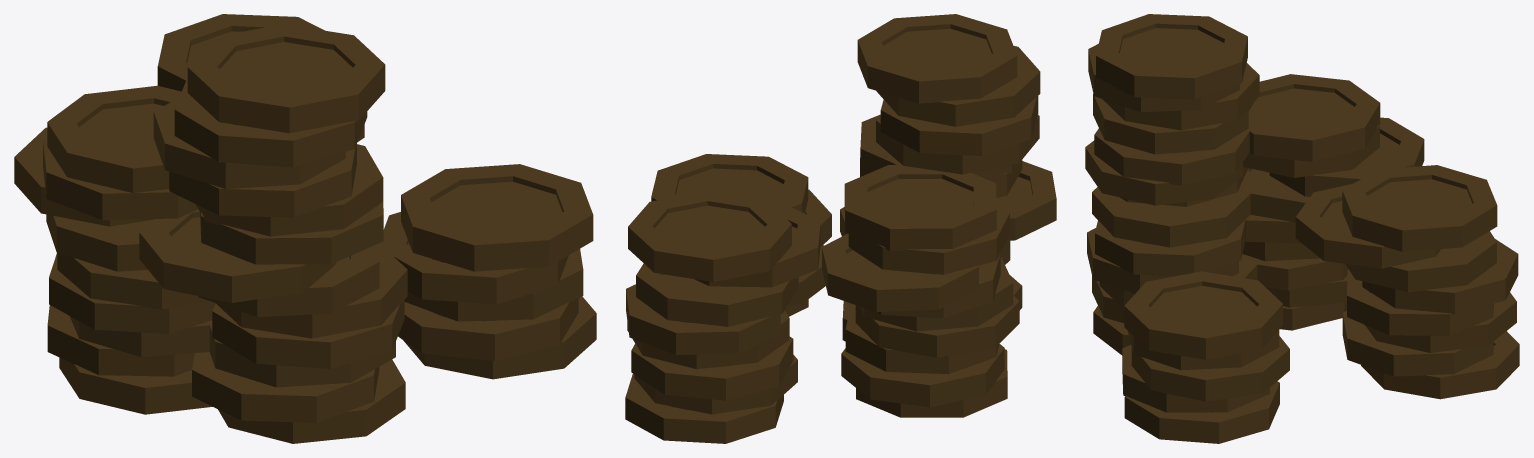
Rendered from Coin_Pile_Cylinder.obj.
3 views of the same model, side by side, from view 1: azimuth 30°, elevation 25°; view 2: azimuth 150°, elevation 25°; view 3: azimuth 270°, elevation 25° (orthographic). The views are drawn at different scales.
Parts seen in each view (by area): view 1: Coin_Pile_Cylinder.001; view 2: Coin_Pile_Cylinder.001; view 3: Coin_Pile_Cylinder.001.
Boxes of the visible parts, left/top/right/bottom form: Coin_Pile_Cylinder.001: left=14, top=14, right=596, bottom=443; Coin_Pile_Cylinder.001: left=625, top=14, right=1056, bottom=443; Coin_Pile_Cylinder.001: left=1085, top=14, right=1519, bottom=443.
Bounding box in the file's own units: 0.1364 × 0.0946 × 0.1354.
